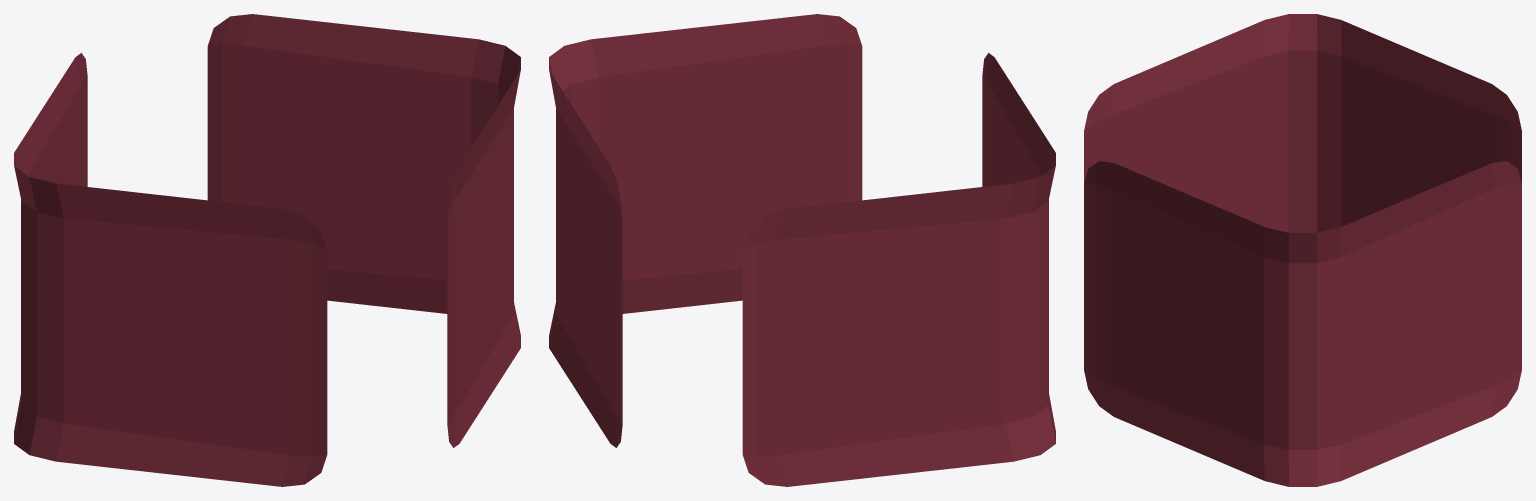
File: FakeWallsSeparate.fbx
3 views of the same model, side by side, from view 1: azimuth 30°, elevation 25°; view 2: azimuth 150°, elevation 25°; view 3: azimuth 270°, elevation 25° (orthographic). The views are drawn at different scales.
Visible parts, largest first — view 1: FakeWalls, FakeWalls.001; view 2: FakeWalls, FakeWalls.001; view 3: FakeWalls.001, FakeWalls.
Part boxes in pixels (x1,y1,x2,y2): FakeWalls: (14,53,327,486); FakeWalls.001: (207,14,520,447); FakeWalls: (742,53,1055,486); FakeWalls.001: (549,14,862,447); FakeWalls.001: (1084,161,1521,486); FakeWalls: (1084,14,1521,232).
Bounding box in the file's own units: 129 × 69.97 × 109.
